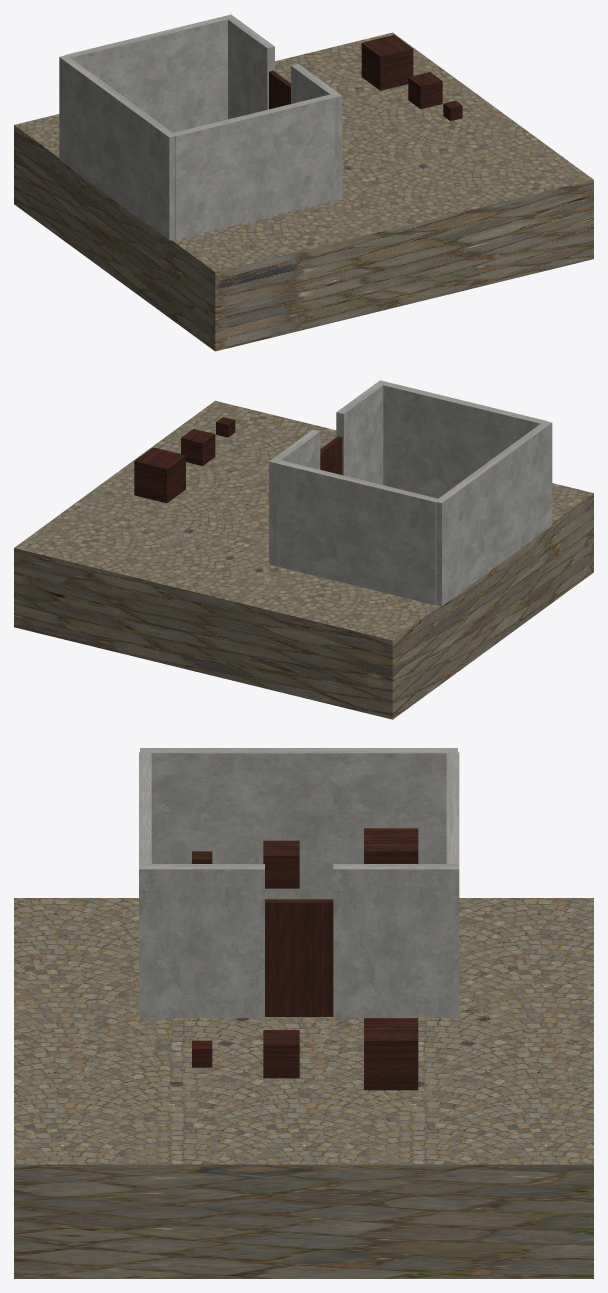
File: test_field.glb
3 renders of one model, top to bottom at view 1: azimuth 30°, elevation 25°; view 2: azimuth 150°, elevation 25°; view 3: azimuth 270°, elevation 25°, orthographic. The views are drawn at different scales.
Parts seen in each view (by area): view 1: Cube.005, Cube.002, Cube.004, Cube.003, Cube.001, ph_Cube.008, Cube, ph_Cube.007, door_Cube; view 2: Cube.005, Cube.003, Cube.004, Cube.002, Cube, ph_Cube.008, Cube.001, ph_Cube.007, door_Cube; view 3: Cube.005, Cube.004, Cube.001, Cube, door_Cube, ph_Cube.008, ph_Cube.009, ph_Cube.007, ph_Cube.010, Cube.003, Cube.002.
Part boxes in pixels (left/top/right/bottom): Cube.005: left=14, top=32, right=593, bottom=351; Cube.002: left=171, top=94, right=334, bottom=239; Cube.004: left=59, top=55, right=175, bottom=240; Cube.003: left=64, top=16, right=227, bottom=132; Cube.001: left=224, top=14, right=274, bottom=119; ph_Cube.008: left=361, top=35, right=413, bottom=90; Cube: left=291, top=64, right=342, bottom=200; ph_Cube.007: left=408, top=72, right=442, bottom=109; door_Cube: left=269, top=70, right=290, bottom=109; Cube.005: left=14, top=400, right=593, bottom=719; Cube.003: left=276, top=460, right=439, bottom=605; Cube.004: left=436, top=421, right=552, bottom=606; Cube.002: left=383, top=382, right=545, bottom=498; Cube: left=336, top=380, right=387, bottom=484; ph_Cube.008: left=134, top=447, right=185, bottom=503; Cube.001: left=269, top=429, right=320, bottom=566; ph_Cube.007: left=181, top=429, right=215, bottom=465; door_Cube: left=320, top=436, right=342, bottom=474; Cube.005: left=14, top=898, right=593, bottom=1278; Cube.004: left=140, top=748, right=457, bottom=899; Cube.001: left=333, top=864, right=459, bottom=1017; Cube: left=139, top=864, right=264, bottom=1017; door_Cube: left=265, top=899, right=333, bottom=1016; ph_Cube.008: left=364, top=1018, right=418, bottom=1090; ph_Cube.009: left=364, top=828, right=418, bottom=863; ph_Cube.007: left=263, top=1030, right=299, bottom=1078; ph_Cube.010: left=263, top=840, right=299, bottom=888; Cube.003: left=446, top=752, right=459, bottom=863; Cube.002: left=139, top=752, right=151, bottom=863.
Size of the model in its own units: 10.05 by 4.6 by 9.2.
Materials: 5 (5 with a texture image).
